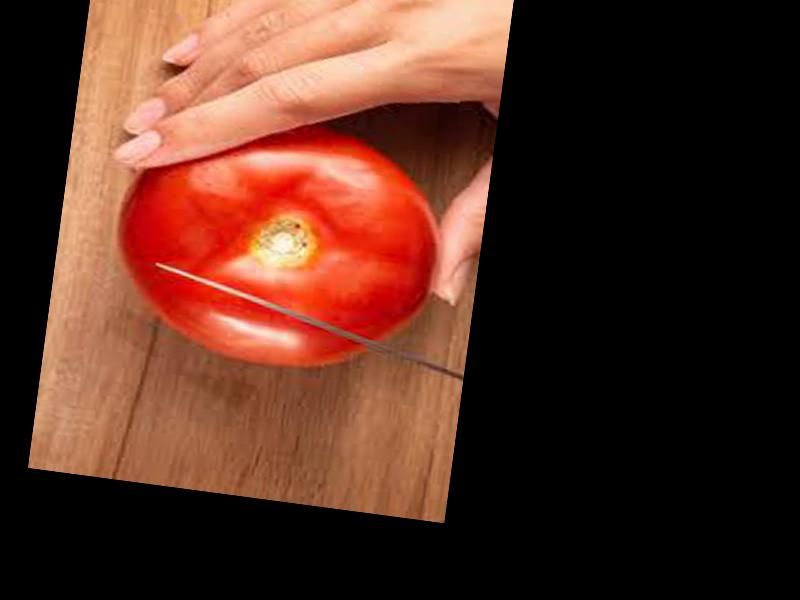Tomato: (106, 100, 449, 378)
